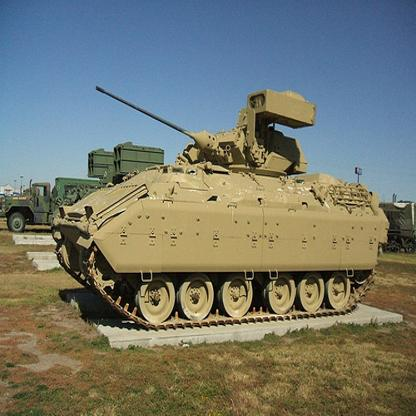Tank: (51, 75, 390, 335)
